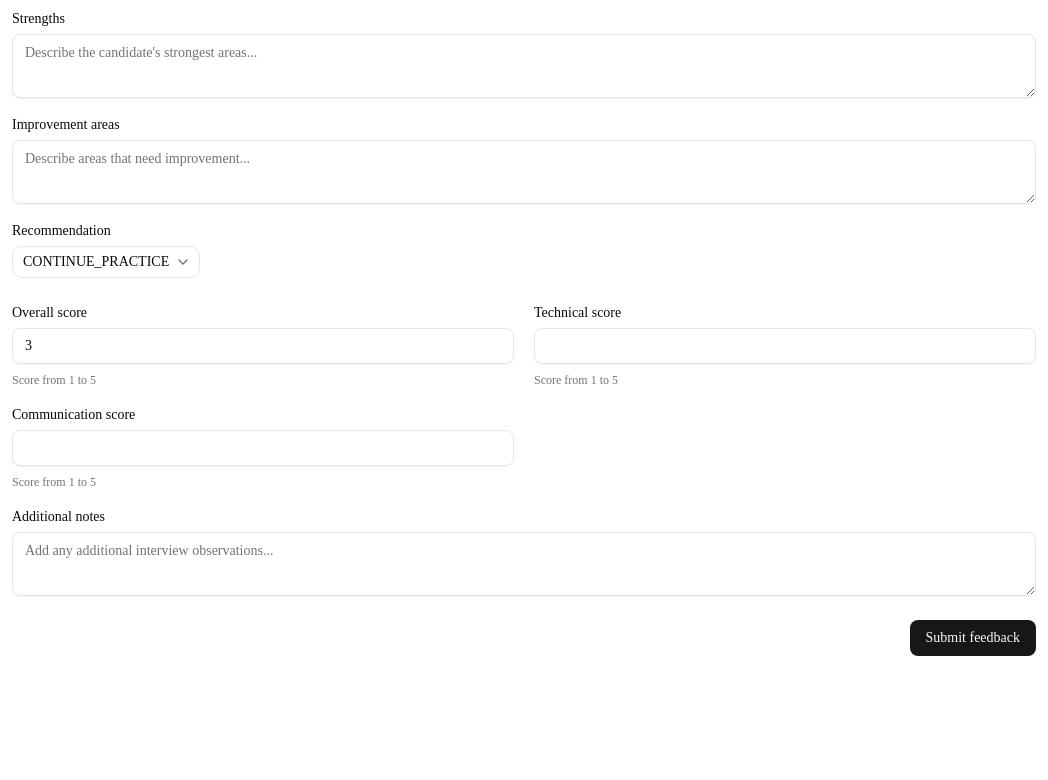
FeedbackForm › shows client validation errors
Click the button "Submit feedback" at [973, 638], box [910,620,1036,656]
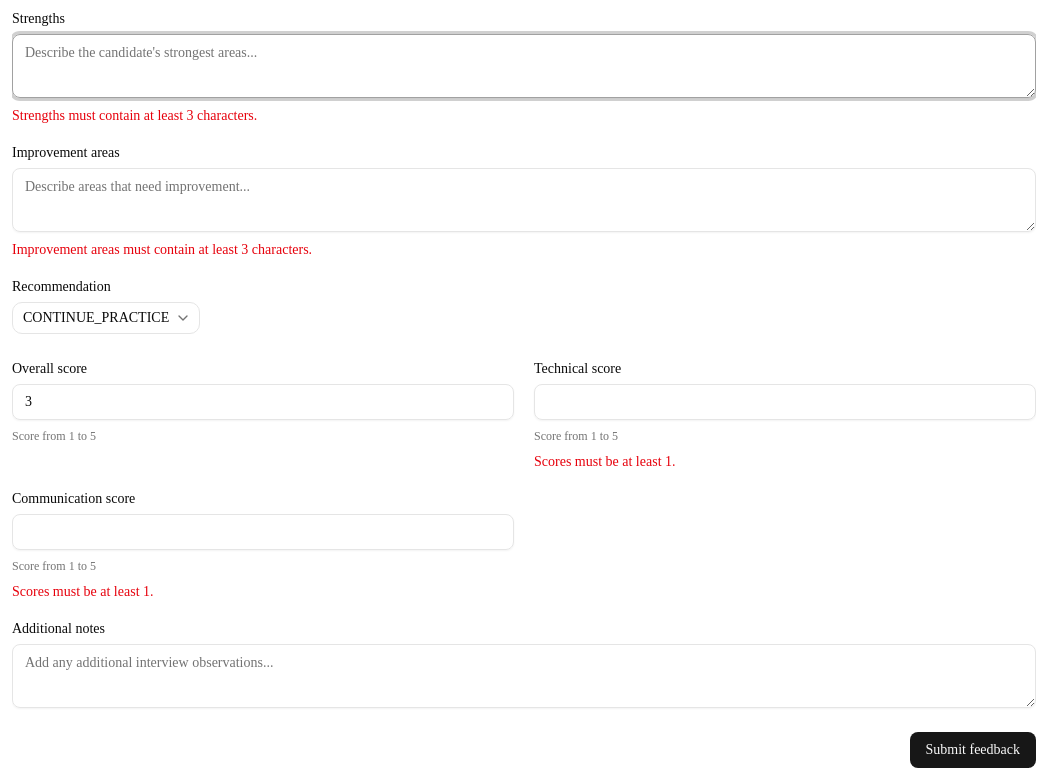
expect the text "Strengths must contain at least 3 characters." is shown: met, box [12,108,257,123]
expect the text "Improvement areas must contain at least 3 characters." is shown: met, box [12,242,312,257]
